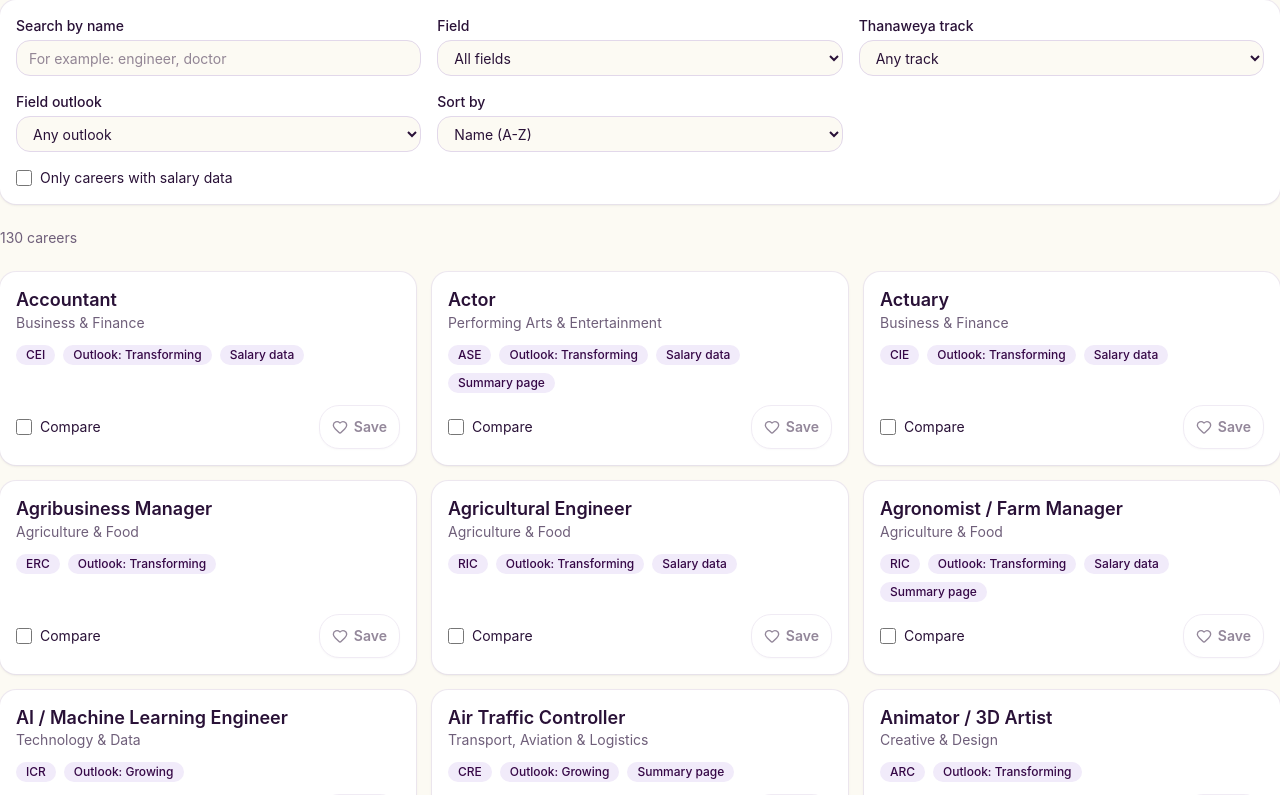
Test case: CareerBrowser › shows an empty state with a reset action
This screenshot has width=1280, height=795.
Type "zzzzqqq" into the search field.
click(219, 58); type("zzzzqqq")  # box x1=16 y1=40 x2=421 y2=76
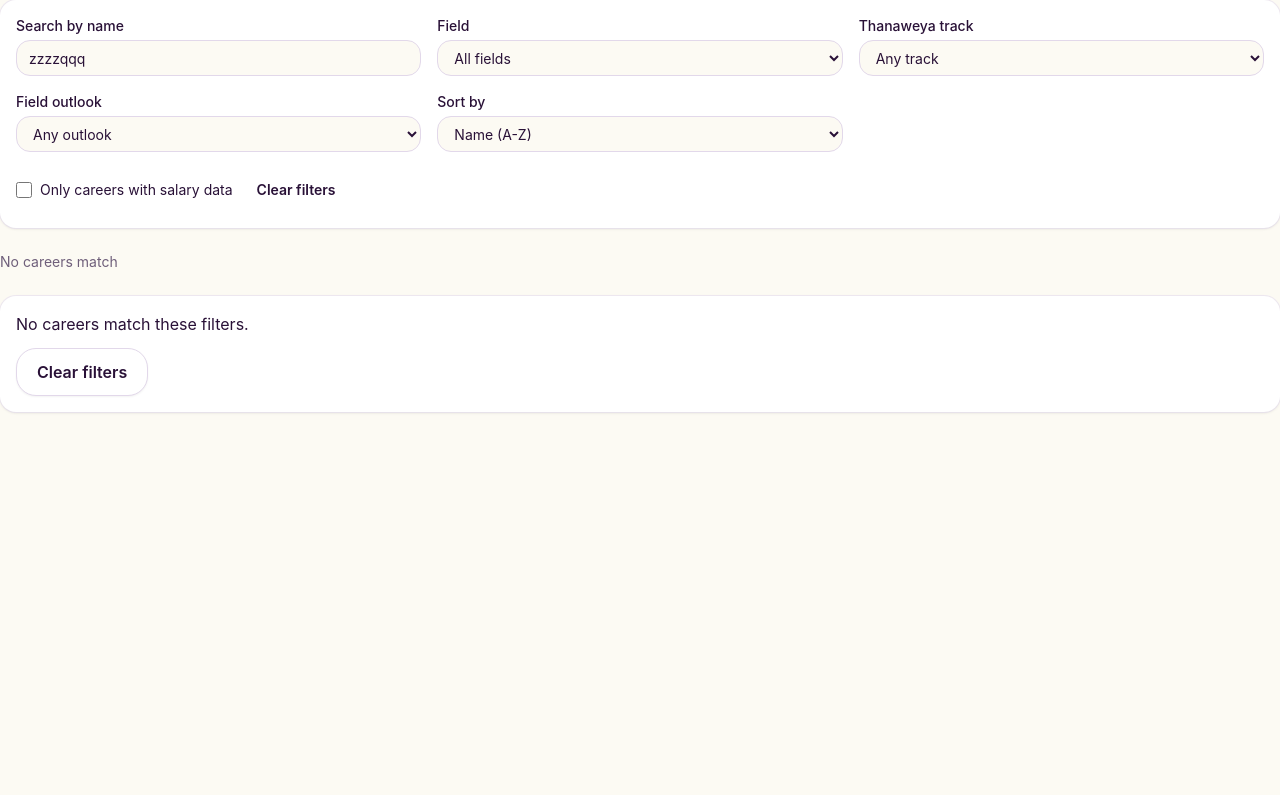
Expected: the text "No careers match these filters." is shown, x1=16 y1=312 x2=249 y2=336
Click the button "Clear filters" next to "Only careers with salary data".
click(296, 190)  # box x1=241 y1=168 x2=352 y2=212
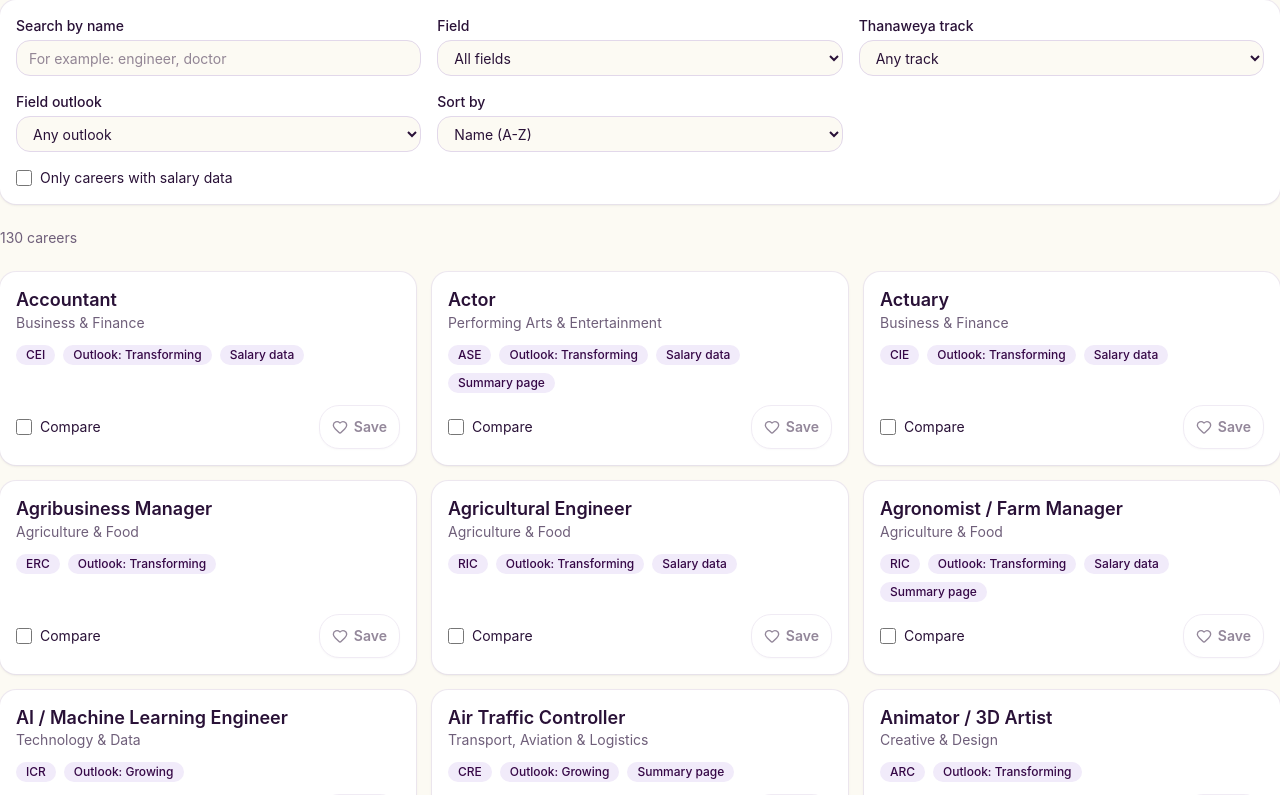
Expected: the number of elements with test id "career-card" is 130
